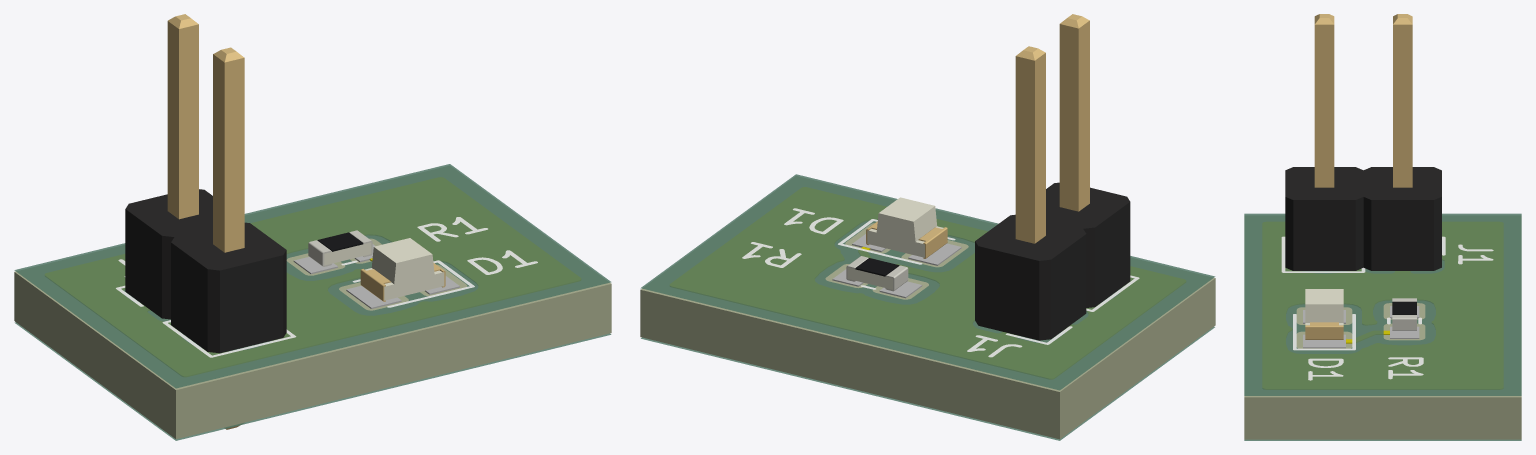
File: board.glb
3 renders of one model, left to right at view 1: azimuth 30°, elevation 25°; view 2: azimuth 150°, elevation 25°; view 3: azimuth 270°, elevation 25°, orthographic. The views are drawn at different scales.
Parts seen in each view (by area): view 1: board_soldermask (×2), board_PCB, PinHeader_1x02_P254mm_Vertical, board_copper, LED_0805_2012Metric, board_silkscreen, R_0603_1608Metric, board_pad; view 2: board_soldermask (×2), board_PCB, PinHeader_1x02_P254mm_Vertical, board_copper, LED_0805_2012Metric, board_silkscreen, R_0603_1608Metric, board_pad; view 3: board_soldermask (×2), board_copper, board_PCB, PinHeader_1x02_P254mm_Vertical, LED_0805_2012Metric, board_silkscreen, board_pad, R_0603_1608Metric.
Part boxes in pixels (x1=…): board_soldermask (×2): x1=14, y1=164, x2=611, y2=440; board_PCB: x1=14, y1=166, x2=611, y2=439; PinHeader_1x02_P254mm_Vertical: x1=125, y1=14, x2=286, y2=429; board_copper: x1=45, y1=177, x2=580, y2=376; LED_0805_2012Metric: x1=360, y1=238, x2=445, y2=301; board_silkscreen: x1=116, y1=217, x2=537, y2=357; R_0603_1608Metric: x1=308, y1=230, x2=372, y2=266; board_pad: x1=293, y1=244, x2=459, y2=308; board_soldermask (×2): x1=640, y1=174, x2=1215, y2=440; board_PCB: x1=640, y1=176, x2=1215, y2=439; PinHeader_1x02_P254mm_Vertical: x1=975, y1=14, x2=1130, y2=340; board_copper: x1=670, y1=187, x2=1185, y2=378; LED_0805_2012Metric: x1=866, y1=197, x2=947, y2=258; board_silkscreen: x1=742, y1=208, x2=1139, y2=357; R_0603_1608Metric: x1=846, y1=256, x2=908, y2=291; board_pad: x1=832, y1=234, x2=961, y2=298; board_soldermask (×2): x1=1244, y1=213, x2=1521, y2=440; board_copper: x1=1263, y1=222, x2=1502, y2=389; board_PCB: x1=1244, y1=216, x2=1521, y2=439; PinHeader_1x02_P254mm_Vertical: x1=1285, y1=14, x2=1441, y2=270; LED_0805_2012Metric: x1=1305, y1=289, x2=1343, y2=339; board_silkscreen: x1=1281, y1=236, x2=1493, y2=380; board_pad: x1=1303, y1=306, x2=1419, y2=348; R_0603_1608Metric: x1=1392, y1=298, x2=1416, y2=330.
Size of the model in its own units: 0.014 by 0.0115 by 0.009.
